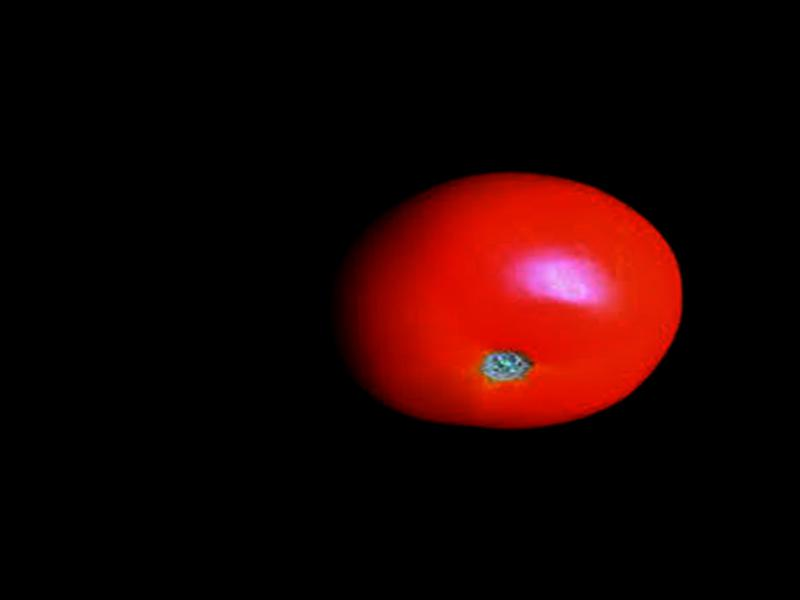Tomato: (322, 162, 691, 439)
